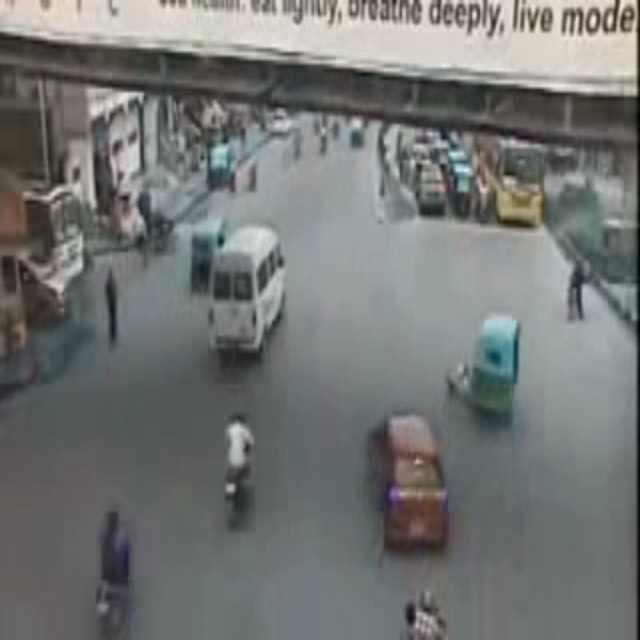acc: (436, 309, 522, 420)
